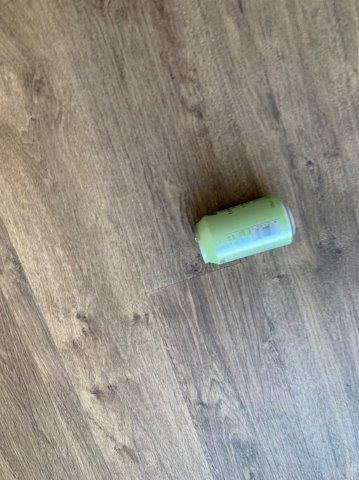kaleng: (197, 198, 294, 263)
